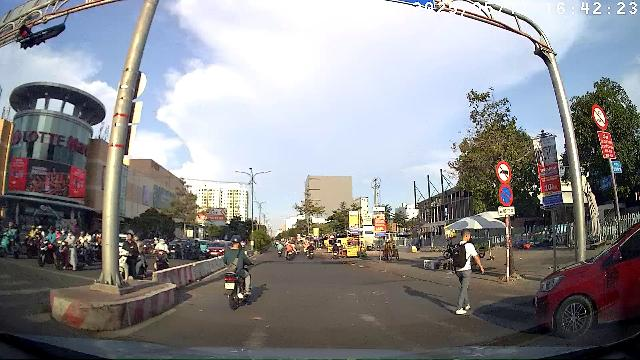131a-cam-do-xe: (499, 184, 514, 206)
